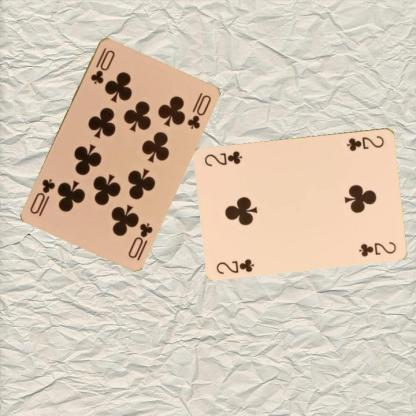10c: (125, 219, 154, 260), (88, 44, 116, 86)
2c: (214, 255, 256, 275), (344, 133, 386, 152)
